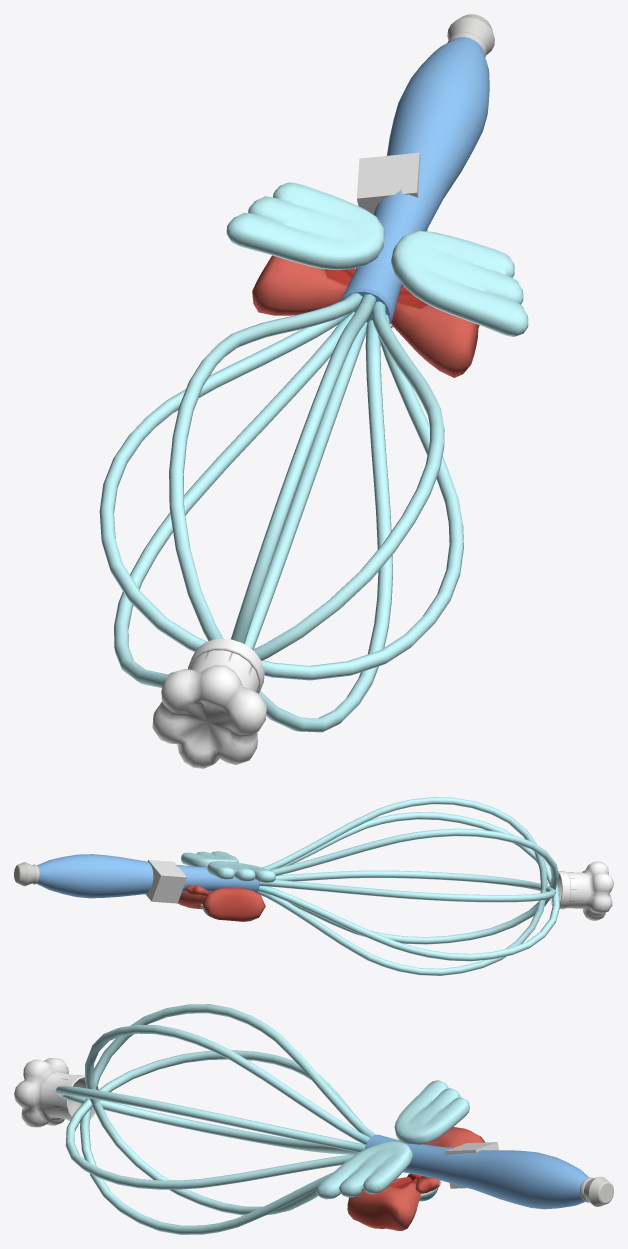
The model's file is Stick_Bake0106_2.fbx.
The picture shows the model from 3 angles, top to bottom: view 1: azimuth 30°, elevation 25°; view 2: azimuth 150°, elevation 25°; view 3: azimuth 270°, elevation 25°; orthographic projection. The views are drawn at different scales.
Visible parts, largest first — view 1: Stick 1, RightWing, LeftWing, Cube; view 2: Stick 1, Cube, RightWing, LeftWing; view 3: Stick 1, LeftWing, RightWing, Cube.
Boxes of the visible parts, x1,y1,x2,y2 form: Stick 1: [99, 14, 494, 768]; RightWing: [226, 182, 384, 269]; LeftWing: [391, 230, 528, 336]; Cube: [357, 152, 427, 231]; Stick 1: [14, 797, 613, 975]; Cube: [145, 860, 186, 903]; RightWing: [207, 861, 275, 882]; LeftWing: [181, 851, 238, 867]; Stick 1: [14, 1004, 613, 1234]; LeftWing: [316, 1141, 412, 1199]; RightWing: [394, 1080, 469, 1144]; Cube: [445, 1142, 498, 1188].
Bounding box in the file's own units: 21.11 × 8.4 × 22.8.
1 material, 1 textured.
